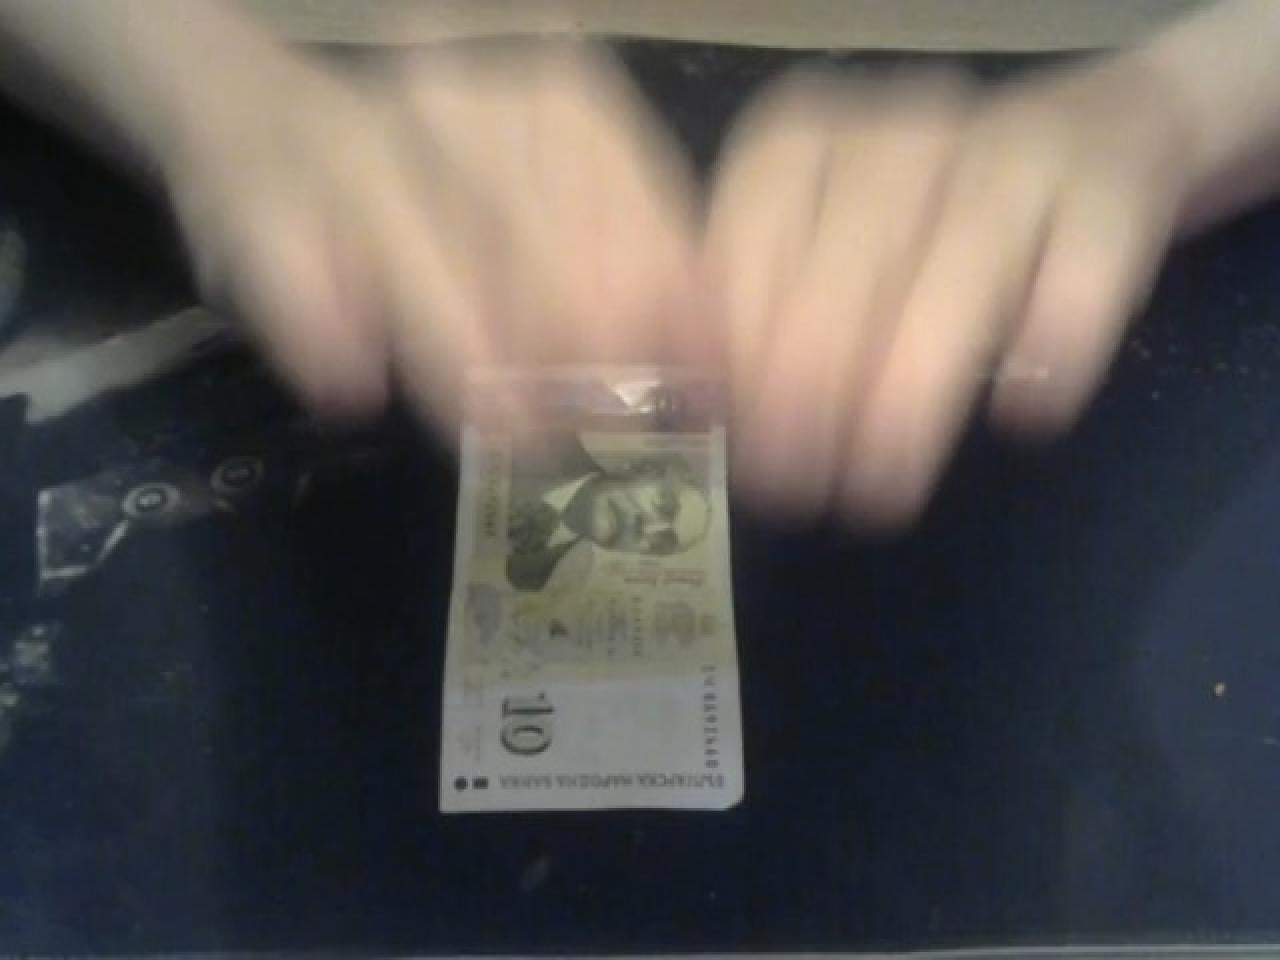10leva: (494, 425, 723, 579), (485, 666, 567, 781)
